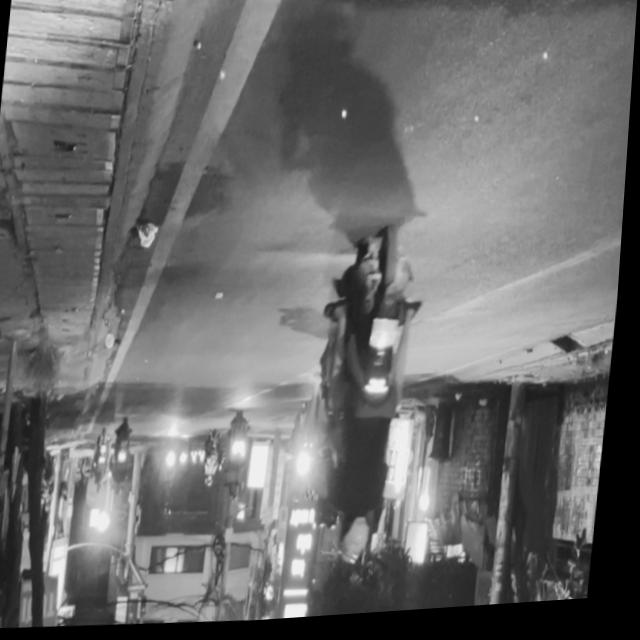helmet: (344, 517, 381, 571)
licenseplate: (301, 229, 435, 579)
nohelmet: (374, 324, 405, 356)
